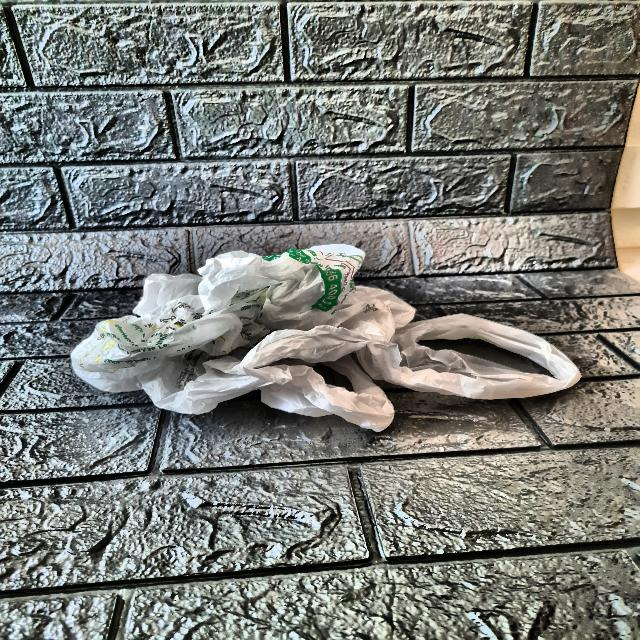plastic bag: (71, 240, 584, 435)
